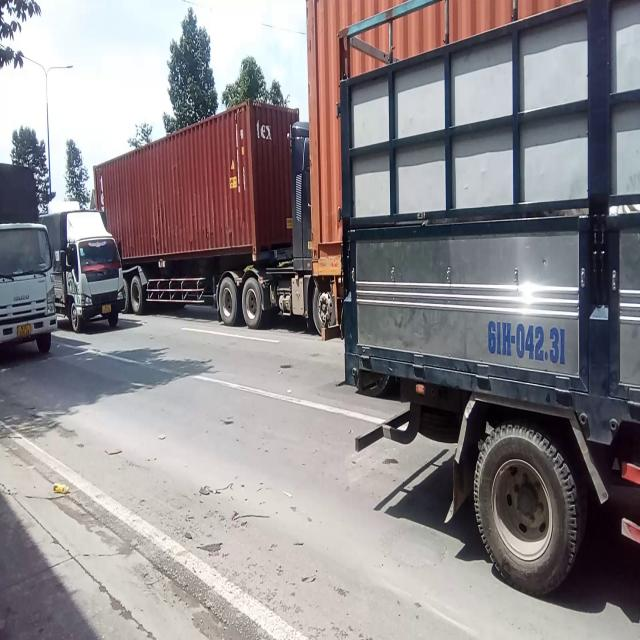bien_vang: (16, 320, 35, 340), (102, 304, 112, 314)
